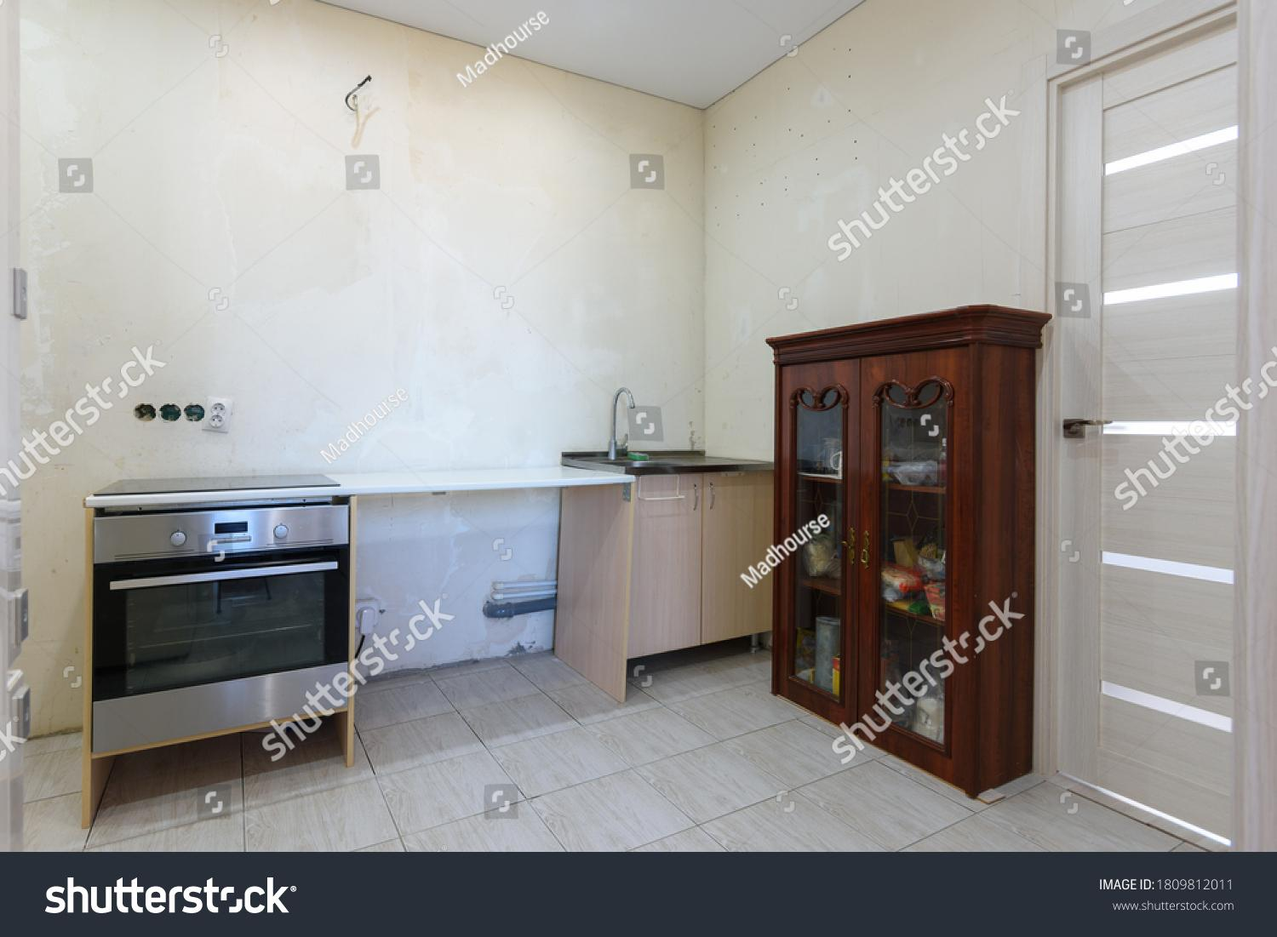door: (1051, 21, 1260, 850)
table: (75, 467, 638, 831), (567, 451, 781, 670)
